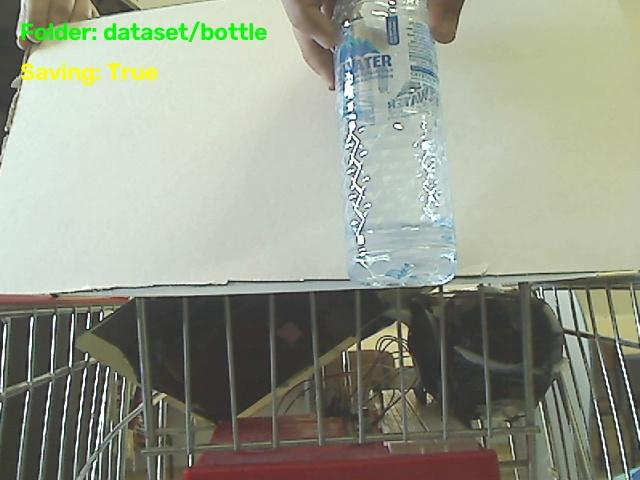Bottle: (334, 0, 456, 285)
